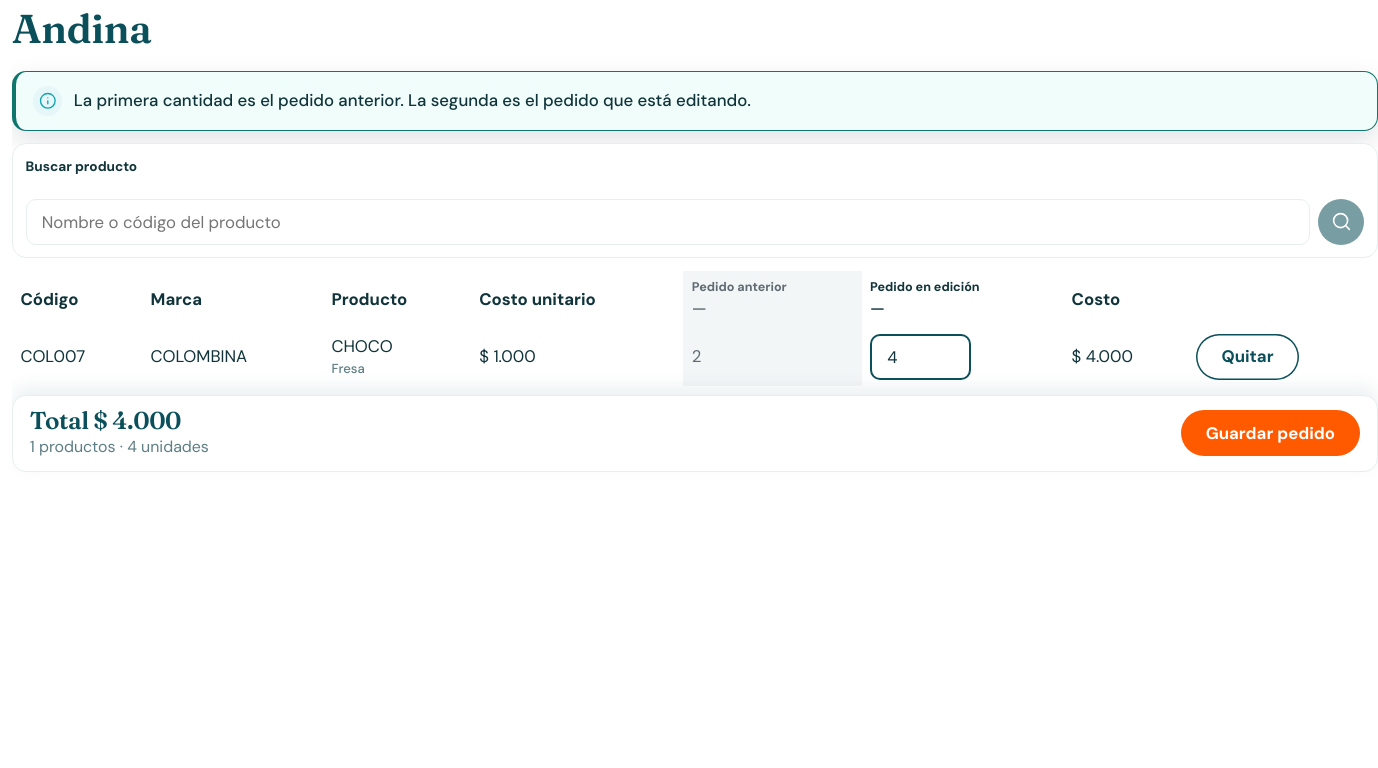
editing the last order and a rejected save show the purchase error
The width and height of the screenshot is (1378, 768).
Later steps or results of the test are not shown.
Expected: the field showing "4" is shown, [870,334,971,380]
Click the button "Guardar pedido" at [1270, 433], box [1180,410,1360,456]
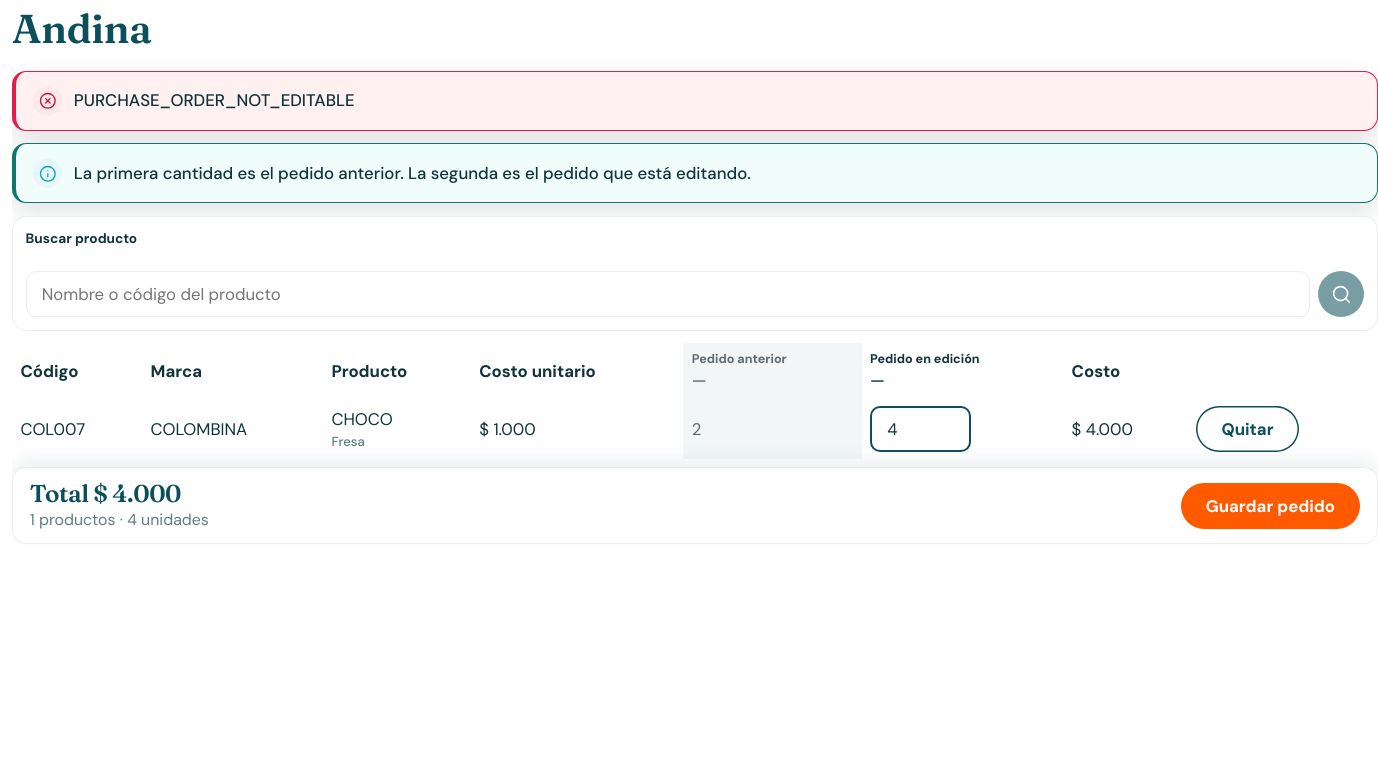
Expected: the text "PURCHASE_ORDER_NOT_EDITABLE" is shown, [74,86,355,112]
